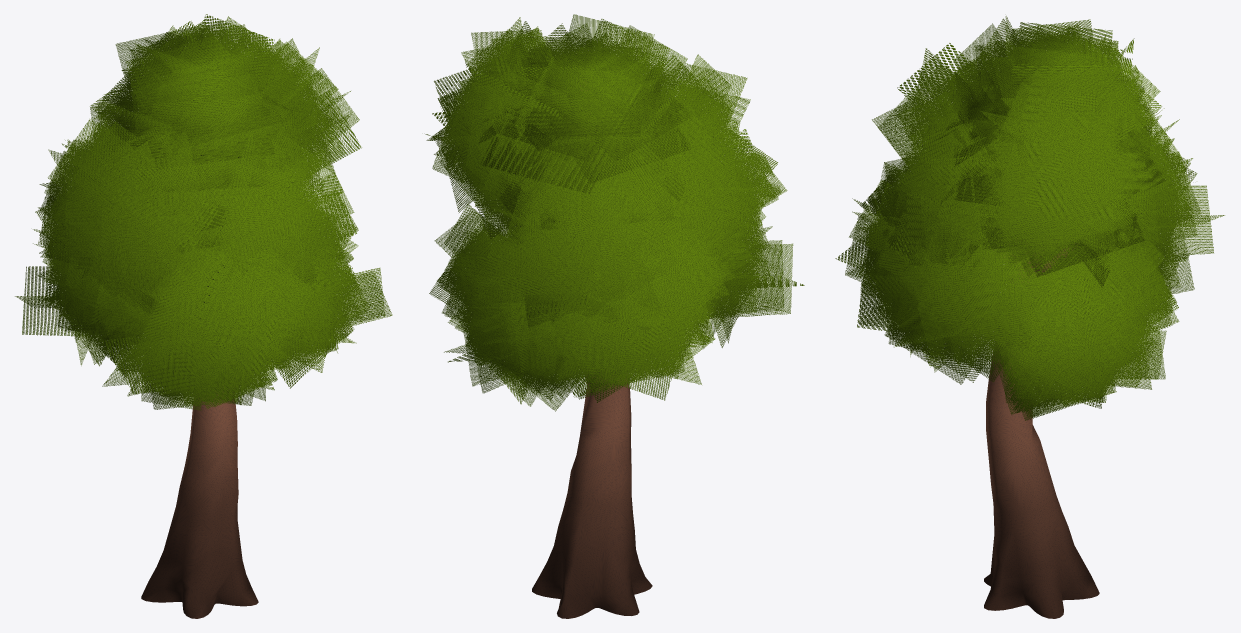
File: nature.glb
3 views of the same model, side by side, from view 1: azimuth 30°, elevation 25°; view 2: azimuth 150°, elevation 25°; view 3: azimuth 270°, elevation 25° (orthographic). The views are drawn at different scales.
Visible parts, largest first — view 1: CommonTree_1; view 2: CommonTree_1; view 3: CommonTree_1.
Boxes of the visible parts, x1=… form: CommonTree_1: x1=15, y1=14, x2=392, y2=618; CommonTree_1: x1=425, y1=14, x2=804, y2=618; CommonTree_1: x1=835, y1=16, x2=1224, y2=618.
Bounding box in the file's own units: 9722 × 16382 × 10322.
Materials: 2 (2 with a texture image).
